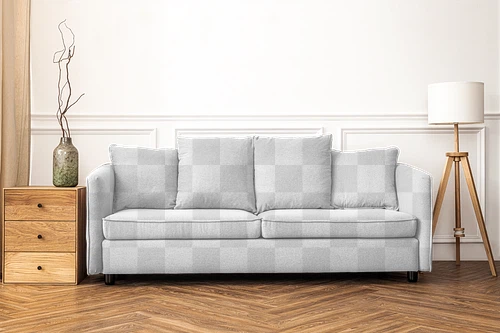floor lamp: (427, 78, 498, 278)
sofa: (83, 130, 435, 287)
